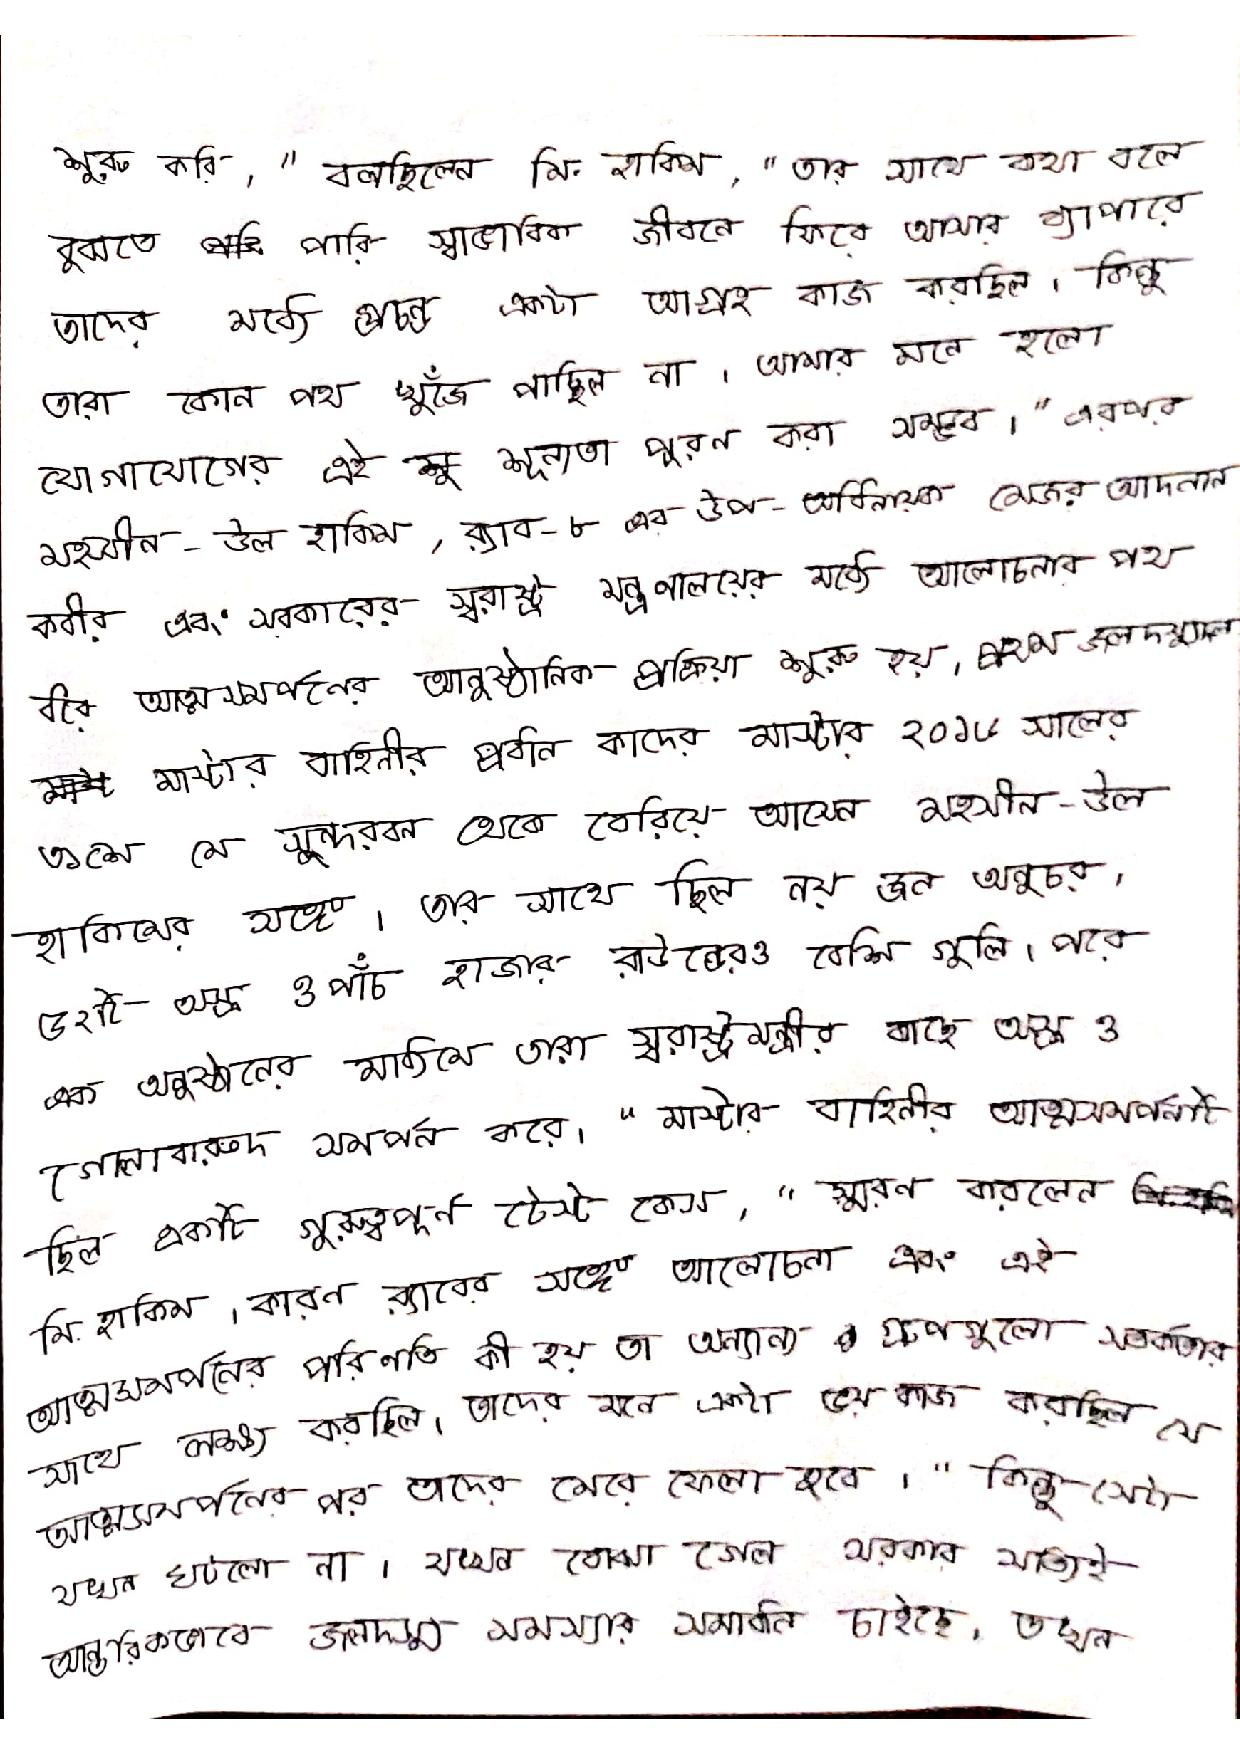line: (31, 617, 1235, 739), (48, 1086, 1231, 1208), (25, 1317, 1239, 1431), (25, 1380, 1227, 1494), (36, 1170, 1235, 1283), (35, 926, 1147, 1045), (42, 462, 1235, 570), (42, 393, 1190, 506), (16, 858, 1126, 973), (35, 1236, 1079, 1355), (38, 772, 1165, 878), (31, 544, 1198, 646), (32, 1451, 1200, 1553), (42, 1007, 1121, 1117), (48, 251, 1188, 352), (42, 318, 1115, 424), (35, 706, 1139, 808), (39, 1592, 1133, 1682), (48, 191, 1192, 274), (48, 1537, 1141, 1606), (58, 133, 1208, 191)
